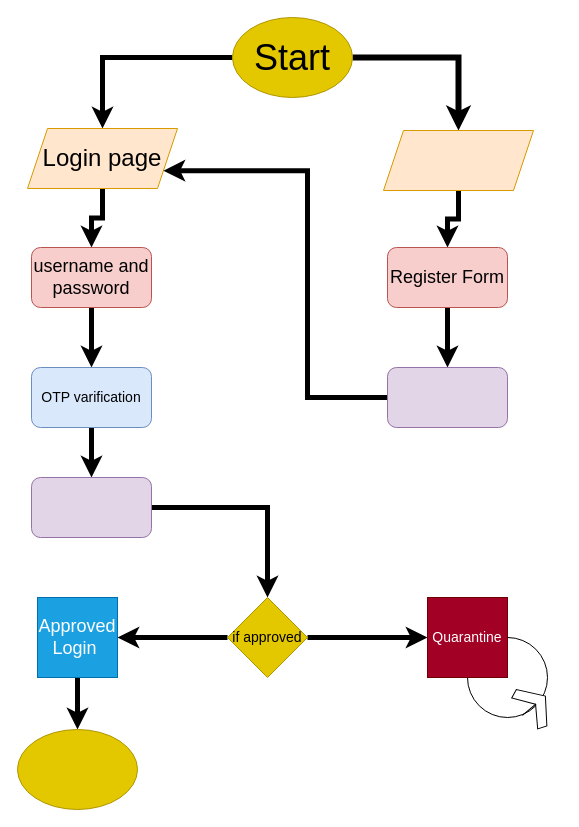
This 579x827 diagram has some shape labels left out. The shapes that lost their labels are listed below. From the top down, each one's centre as x and y in pixels, then its label:
pixel 458 160: Signup
pixel 447 397: Register tile
pixel 91 507: Tile Authentication
pixel 77 769: END
